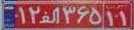character: (41, 4, 63, 26), (61, 5, 76, 27), (76, 4, 90, 26), (28, 4, 41, 26), (90, 6, 103, 26), (17, 5, 27, 27), (118, 9, 130, 27), (104, 10, 116, 27)
